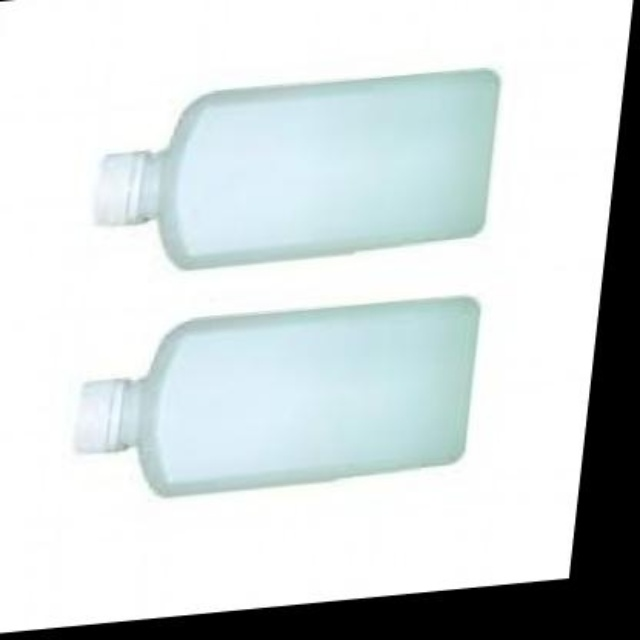trash: (95, 69, 497, 266), (75, 297, 477, 494)
